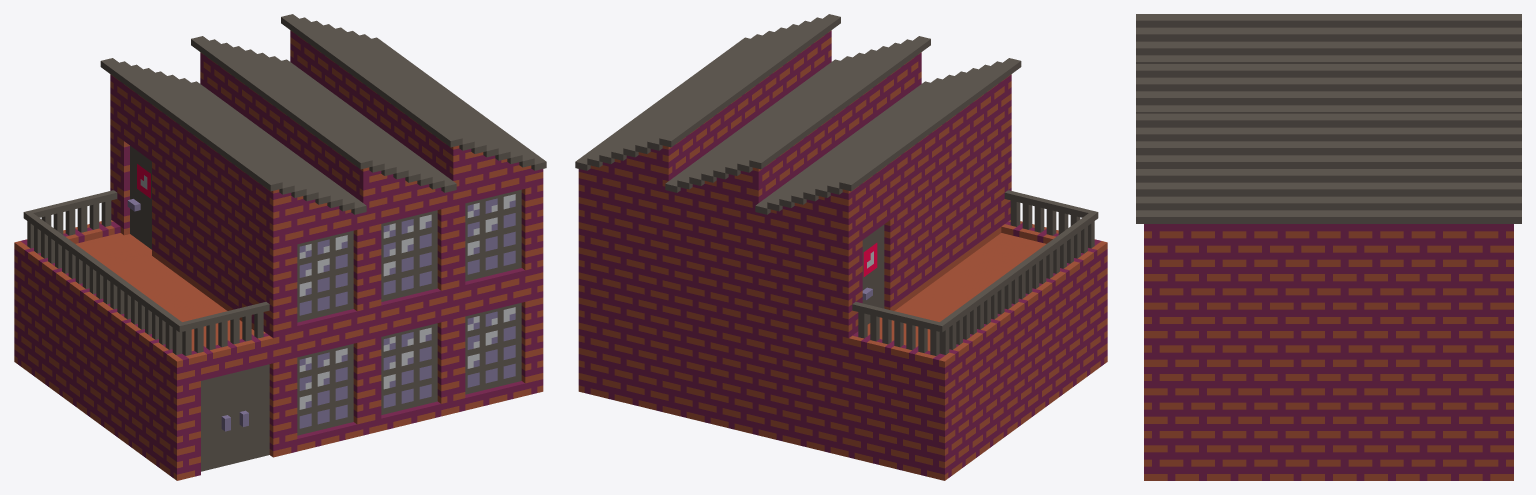
Rendered from factory_a.obj.
3 views of the same model, side by side, from view 1: azimuth 30°, elevation 25°; view 2: azimuth 150°, elevation 25°; view 3: azimuth 270°, elevation 25° (orthographic). The views are drawn at different scales.
Size of the model in its own units: 6.1 by 4.4 by 4.9.
1 material, 1 textured.
